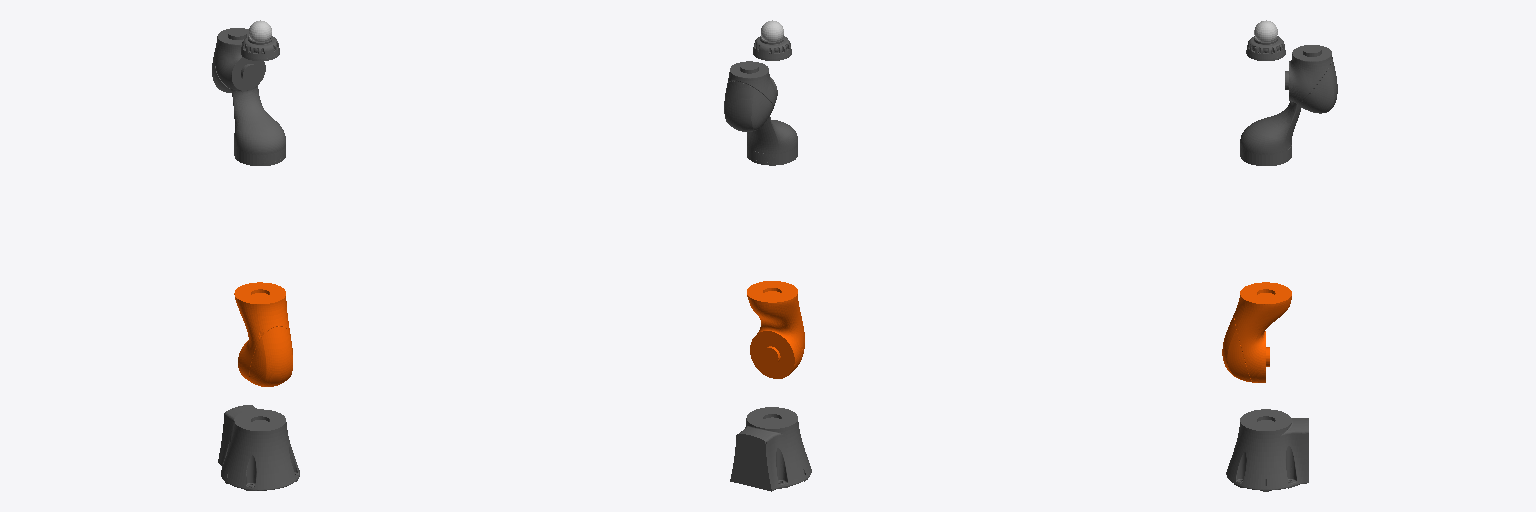
robot.urdf — iiwa7:
<?xml version="1.0"?>
<robot name="iiwa7">

  <material name="Orange">
    <color rgba="1 0.423 0.039 1.0"/>
  </material>

  <material name="Grey">
    <color rgba="0.4 0.4 0.4 1.0"/>
  </material>

  <material name="LightGrey">
    <color rgba="0.8 0.8 0.8 1.0"/>
  </material>

  <link name="world" />

  <!-- Joint between world and link_0 -->
  <joint name="world_iiwa_joint" type="fixed">
    <origin xyz="0 0 0" rpy="0 0 0"/>
    <parent link="world"/>
    <child link="iiwa_link_0"/>
  </joint>

  <!-- Link 0 -->
  <link name="iiwa_link_0">
    <visual>
      <geometry>
        <mesh filename="../meshes/visual/link_0.stl"/>
      </geometry>
      <material name="Grey"/>
    </visual>
  </link>

  <!-- Link 1 -->
  <link name="iiwa_link_1">
    <visual>
      <geometry>
        <mesh filename="../meshes/visual/link_1.stl"/>
      </geometry>
      <material name="Grey"/>
    </visual>
  </link>

  <!-- Joint 1 -->
  <joint name="iiwa_joint_1" type="continuous">
    <parent link="iiwa_link_0"/>
    <child link="iiwa_link_1"/>
    <origin xyz="0 0 0.1575" rpy="0 0 0"/>
    <axis xyz="0 0 1"/>
  </joint>

  <!-- Link 2 -->
  <link name="iiwa_link_2">
    <visual>
      <geometry>
        <mesh filename="../meshes/visual/link_2.stl"/>
      </geometry>
      <material name="Orange"/>
    </visual>
  </link>

  <!-- Joint 2 -->
  <joint name="iiwa_joint_2" type="continuous">
    <parent link="iiwa_link_1"/>
    <child link="iiwa_link_2"/>
    <origin xyz="0 0 0.183" rpy="0 0 0"/>
    <axis xyz="0 1 0"/>
  </joint>
 
  <!-- Link 3 -->
  <link name="iiwa_link_3">
    <visual>
      <geometry>
        <mesh filename="../meshes/visual/link_3.stl"/>
      </geometry>
      <material name="Grey"/>
    </visual>
  </link>

  <!-- Joint 3 -->
  <joint name="iiwa_joint_3" type="continuous">
    <parent link="iiwa_link_2"/>
    <child link="iiwa_link_3"/>
    <origin xyz="0 0 0.183" rpy="0 0 0"/>
    <axis xyz="0 0 1"/>
  </joint>

  <!-- Link 4 -->
  <link name="iiwa_link_4">
    <visual>
      <geometry>
        <mesh filename="../meshes/visual/link_4.stl"/>
      </geometry>
      <material name="Orange"/>
    </visual>
  </link>

  <!-- Joint 4 -->
  <joint name="iiwa_joint_4" type="continuous">
    <parent link="iiwa_link_3"/>
    <child link="iiwa_link_4"/>
    <origin xyz="0 0 0.2155" rpy="0 0 0"/>
    <axis xyz="0 -1 0"/>
  </joint>

  <!-- Link 5 -->
  <link name="iiwa_link_5">
    <visual>
      <geometry>
        <mesh filename="../meshes/visual/link_5.stl"/>
      </geometry>
      <material name="Grey"/>
    </visual>
  </link>

  <!-- Joint 5 -->
  <joint name="iiwa_joint_5" type="continuous">
    <parent link="iiwa_link_4"/>
    <child link="iiwa_link_5"/>
    <origin xyz="0 0 0.184" rpy="0 0 0"/>
    <axis xyz="0 0 1"/>
  </joint>

  <!-- Link 6 -->
  <link name="iiwa_link_6">
    <visual>
      <geometry>
        <mesh filename="../meshes/visual/link_6.stl"/>
      </geometry>
      <material name="Grey"/>
    </visual>
  </link>

  <!-- Joint 6 -->
  <joint name="iiwa_joint_6" type="continuous">
    <parent link="iiwa_link_5"/>
    <child link="iiwa_link_6"/>
    <origin xyz="0 0.060700 0.2155" rpy="0 0 0"/>
    <axis xyz="0 1 0"/>
  </joint>

  <!-- Link 7 -->
  <link name="iiwa_link_7">
    <visual>
      <geometry>
        <mesh filename="../meshes/visual/link_7.stl"/>
      </geometry>
      <material name="Grey"/>
    </visual>
    <visual>
     <origin xyz="0 0 0.06" rpy="0 0 0"/>
      <geometry>
        <sphere radius="0.031"/>
      </geometry>
      <material name="LightGrey"/>
    </visual>
  </link> 

  <!-- Joint 7 -->
  <joint name="iiwa_joint_7" type="continuous">
    <parent link="iiwa_link_6"/>
    <child link="iiwa_link_7"/>
    <origin xyz="0 -0.060700 0.0805" rpy="0 0 0"/>
    <axis xyz="0 0 1"/>
  </joint>

</robot>

--- What the picture shows (computed from the rendered views, not written in the file) ---
3 views of the same robot in one strip: view 1: azimuth 30°, elevation 25°; view 2: azimuth 150°, elevation 25°; view 3: azimuth 270°, elevation 25° (orthographic).
Model iiwa7 with 9 links and 8 joints (7 continuous, 1 fixed), rooted at world, posed all joints at 0.
Links seen in each view (by area): view 1: iiwa_link_0, iiwa_link_2, iiwa_link_5, iiwa_link_6, iiwa_link_7; view 2: iiwa_link_0, iiwa_link_2, iiwa_link_6, iiwa_link_5, iiwa_link_7; view 3: iiwa_link_0, iiwa_link_2, iiwa_link_6, iiwa_link_5, iiwa_link_7.
Boxes of the visible links, x1,y1,x2,y2 form: iiwa_link_0: [218, 405, 299, 490]; iiwa_link_2: [234, 282, 292, 386]; iiwa_link_5: [231, 59, 285, 165]; iiwa_link_6: [212, 28, 265, 92]; iiwa_link_7: [241, 20, 279, 60]; iiwa_link_0: [730, 407, 811, 491]; iiwa_link_2: [747, 281, 804, 378]; iiwa_link_6: [724, 61, 777, 131]; iiwa_link_5: [747, 116, 797, 165]; iiwa_link_7: [753, 20, 791, 60]; iiwa_link_0: [1226, 409, 1308, 491]; iiwa_link_2: [1222, 282, 1291, 382]; iiwa_link_6: [1285, 45, 1337, 113]; iiwa_link_5: [1240, 101, 1300, 165]; iiwa_link_7: [1246, 20, 1285, 60].
Bounding box of the posed robot: 0.2079 × 0.3022 × 1.31 m (x, y, z).
Meshes: 8 distinct files referenced, 5 mesh visuals loaded (5 binary STL); not drawn: 3 (reference not matched to a file when rendering).